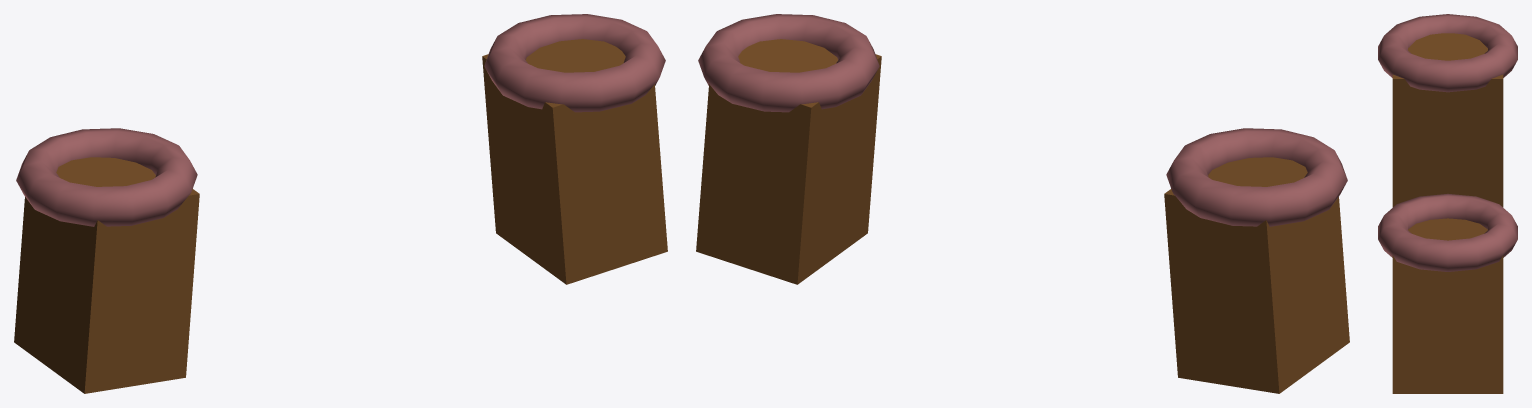
The model's file is hands.glb.
The picture shows the model from 3 angles, left to right: view 1: azimuth 30°, elevation 25°; view 2: azimuth 150°, elevation 25°; view 3: azimuth 270°, elevation 25°; orthographic projection. The views are drawn at different scales.
Visible parts, largest first — view 1: gauntlet_-1, gauntlet_1, cuff_-1, cuff_1; view 2: gauntlet_-1, gauntlet_1, cuff_-1, cuff_1; view 3: gauntlet_1, gauntlet_-1, cuff_1, cuff_-1.
Boxes of the visible parts, x1,y1,x2,y2 form: gauntlet_-1: (14, 157, 199, 393); gauntlet_1: (482, 39, 667, 284); cuff_-1: (16, 128, 197, 226); cuff_1: (484, 14, 665, 112); gauntlet_-1: (1164, 157, 1349, 393); gauntlet_1: (696, 39, 881, 284); cuff_-1: (1166, 128, 1347, 226); cuff_1: (698, 14, 879, 112); gauntlet_1: (1392, 218, 1503, 393); gauntlet_-1: (1392, 33, 1503, 207); cuff_1: (1378, 193, 1517, 271); cuff_-1: (1378, 14, 1517, 92).
Bounding box in the file's own units: 1.23 × 0.3816 × 0.3022.
